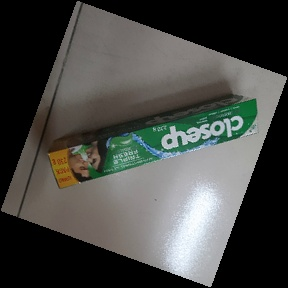CloseUp Xanh: (45, 92, 258, 193)
